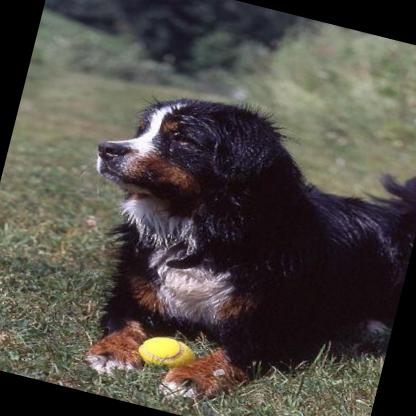Bernese_mountain_dog: (43, 75, 416, 416)
